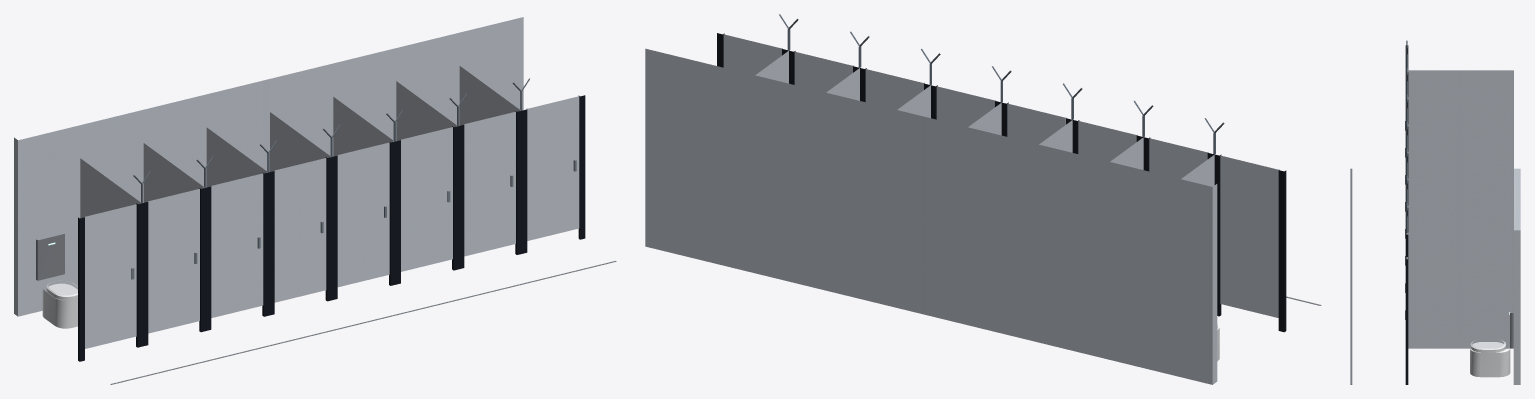
3 views of the same model, side by side, from view 1: azimuth 30°, elevation 25°; view 2: azimuth 150°, elevation 25°; view 3: azimuth 270°, elevation 25° (orthographic). The views are drawn at different scales.
Parts seen in each view (by area): view 1: Stall_Doors, Wet_Wall, Pilasters, Partitions, WC, WC_VacUnit, Aisle_Centre_Strip, Branch_Fins; view 2: Wet_Wall, Stall_Doors, Partitions, Pilasters, Branch_Fins; view 3: Partitions, Wet_Wall, WC, Pilasters, Aisle_Centre_Strip, Branch_Fins.
Part boxes in pixels (left/top/right/bottom): Stall_Doors: left=84, top=96, right=579, bottom=348; Wet_Wall: left=14, top=17, right=523, bottom=316; Pilasters: left=78, top=95, right=585, bottom=361; Partitions: left=80, top=66, right=520, bottom=218; WC: left=42, top=280, right=77, bottom=328; WC_VacUnit: left=36, top=234, right=64, bottom=280; Aisle_Centre_Strip: left=110, top=261, right=616, bottom=384; Branch_Fins: left=133, top=78, right=529, bottom=203; Wet_Wall: left=645, top=48, right=1217, bottom=384; Stall_Doors: left=723, top=34, right=1279, bottom=317; Partitions: left=755, top=51, right=1214, bottom=186; Pilasters: left=717, top=33, right=1286, bottom=332; Branch_Fins: left=779, top=14, right=1224, bottom=154; Partitions: left=1408, top=70, right=1513, bottom=348; Wet_Wall: left=1513, top=168, right=1520, bottom=384; WC: left=1470, top=339, right=1510, bottom=377; Pilasters: left=1405, top=45, right=1408, bottom=384; Aisle_Centre_Strip: left=1350, top=168, right=1352, bottom=384; Branch_Fins: left=1406, top=40, right=1407, bottom=232.
Bounding box in the file's own units: 7.2 × 2.4 × 2.4.
8 materials, 4 textured.
